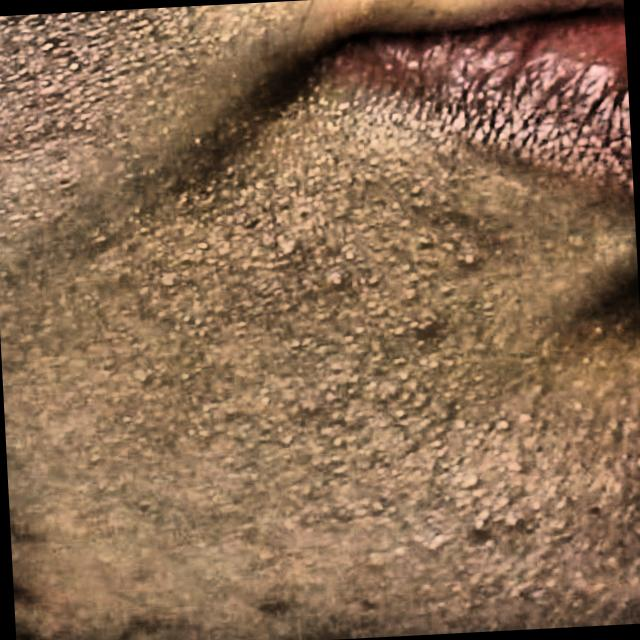whiteheads: (322, 269, 348, 292), (494, 416, 516, 435), (461, 252, 481, 270), (414, 234, 433, 252), (278, 244, 299, 259), (246, 246, 262, 264), (569, 396, 588, 411), (438, 282, 456, 297), (428, 534, 446, 549), (479, 299, 498, 313), (442, 240, 458, 256), (386, 110, 402, 126), (398, 262, 414, 277), (342, 246, 355, 264), (282, 432, 296, 448), (507, 516, 521, 532), (390, 326, 407, 339), (398, 370, 413, 384), (222, 165, 236, 180), (409, 185, 425, 198), (426, 358, 442, 371), (444, 356, 458, 370), (530, 500, 544, 514), (204, 255, 219, 268), (354, 325, 368, 338), (366, 378, 380, 391), (464, 475, 478, 488), (518, 412, 532, 425), (292, 338, 305, 351), (367, 276, 380, 289), (394, 408, 408, 420), (260, 396, 274, 408), (398, 218, 412, 230), (393, 546, 406, 558), (482, 536, 494, 549), (195, 240, 210, 250), (439, 462, 452, 473), (331, 439, 343, 450), (455, 420, 468, 430), (197, 430, 210, 440), (453, 401, 464, 412), (202, 404, 212, 414), (122, 415, 132, 424), (182, 372, 192, 381), (496, 466, 506, 474), (433, 440, 441, 448), (234, 330, 242, 338), (226, 456, 233, 465), (438, 449, 446, 456), (184, 314, 191, 322), (174, 325, 180, 333), (194, 318, 200, 326)
